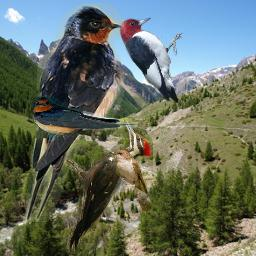Cuckoo: (107, 148, 152, 212)
Swallow: (21, 3, 124, 222), (30, 94, 138, 137)
Woodpecker: (61, 118, 153, 254), (119, 17, 185, 103)
